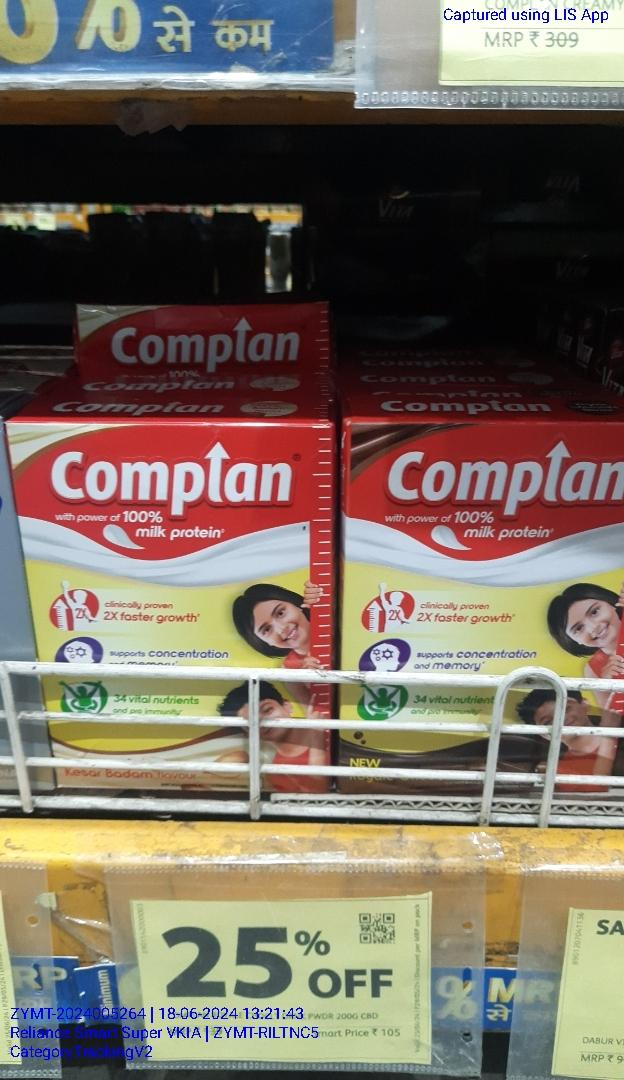COMPLAN_CHOCOLATE_500_GMS_PACK: (348, 428, 624, 797)
COMPLAN_KESAR_BADAM_500_GMS_PACK: (19, 416, 336, 783)
